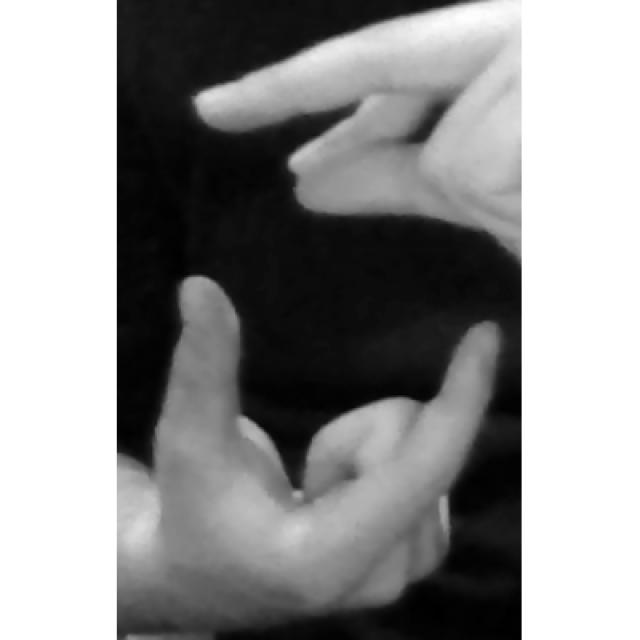U--: (118, 34, 521, 634)
